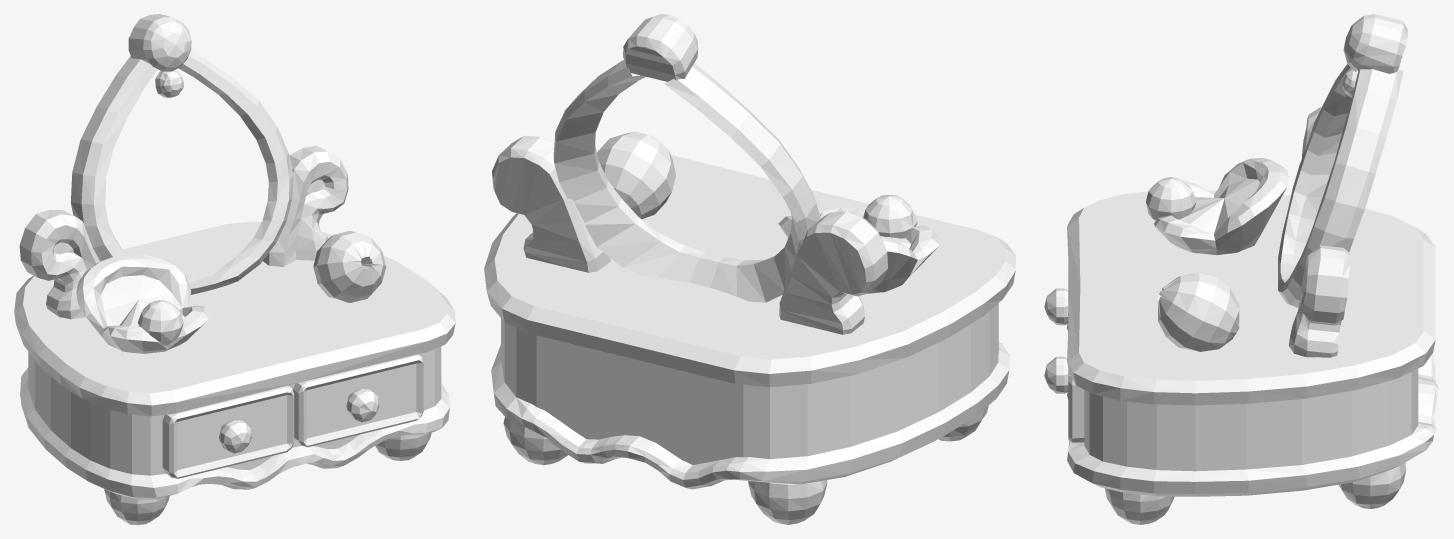
Rendered from g_s_vanity.glb.
3 views of the same model, side by side, from view 1: azimuth 30°, elevation 25°; view 2: azimuth 150°, elevation 25°; view 3: azimuth 270°, elevation 25° (orthographic). The views are drawn at different scales.
Parts seen in each view (by area): view 1: geometry_0; view 2: geometry_0; view 3: geometry_0.
Boxes of the visible parts, x1,y1,x2,y2 form: geometry_0: (14,14,455,524); geometry_0: (484,14,1015,524); geometry_0: (1044,14,1439,524).
Bounding box in the file's own units: 0.1719 × 0.1743 × 0.1445.
1 material, 1 textured.
